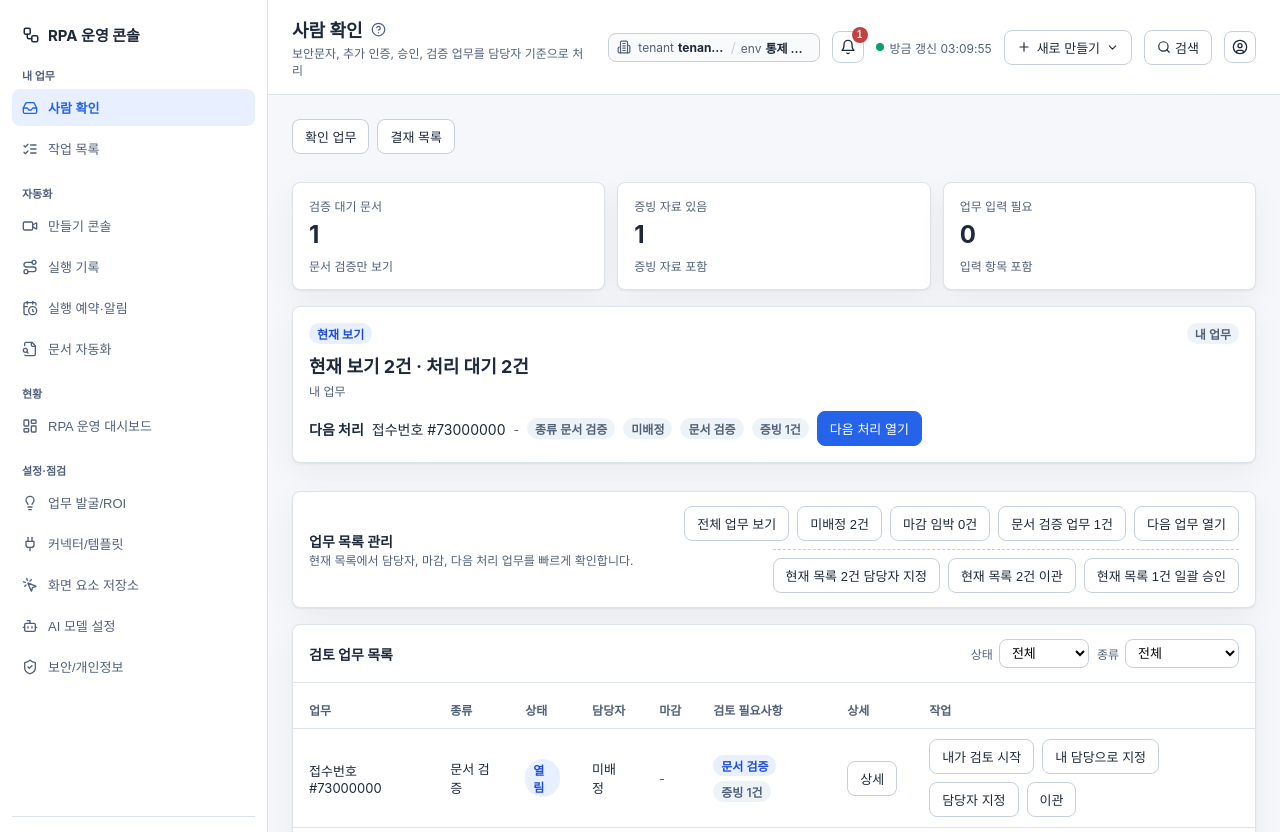
Scenario: HumanTasks 일괄 동작 안전성 › 일괄 대상이 화면 필터(문서 검증만)와 일치한다 — pageItems가 아닌 visibleItems 기준
Expected: the button "현재 목록 2건 담당자 지정" is shown, [773,558,940,593]
# '문서 검증 업무' 토글 → 보이는 목록은 문서 1건 → 일괄 대상도 1건이어야 한다.
Click the button "문서 검증 업무 1건" at (1062, 524), box [998,506,1126,541]
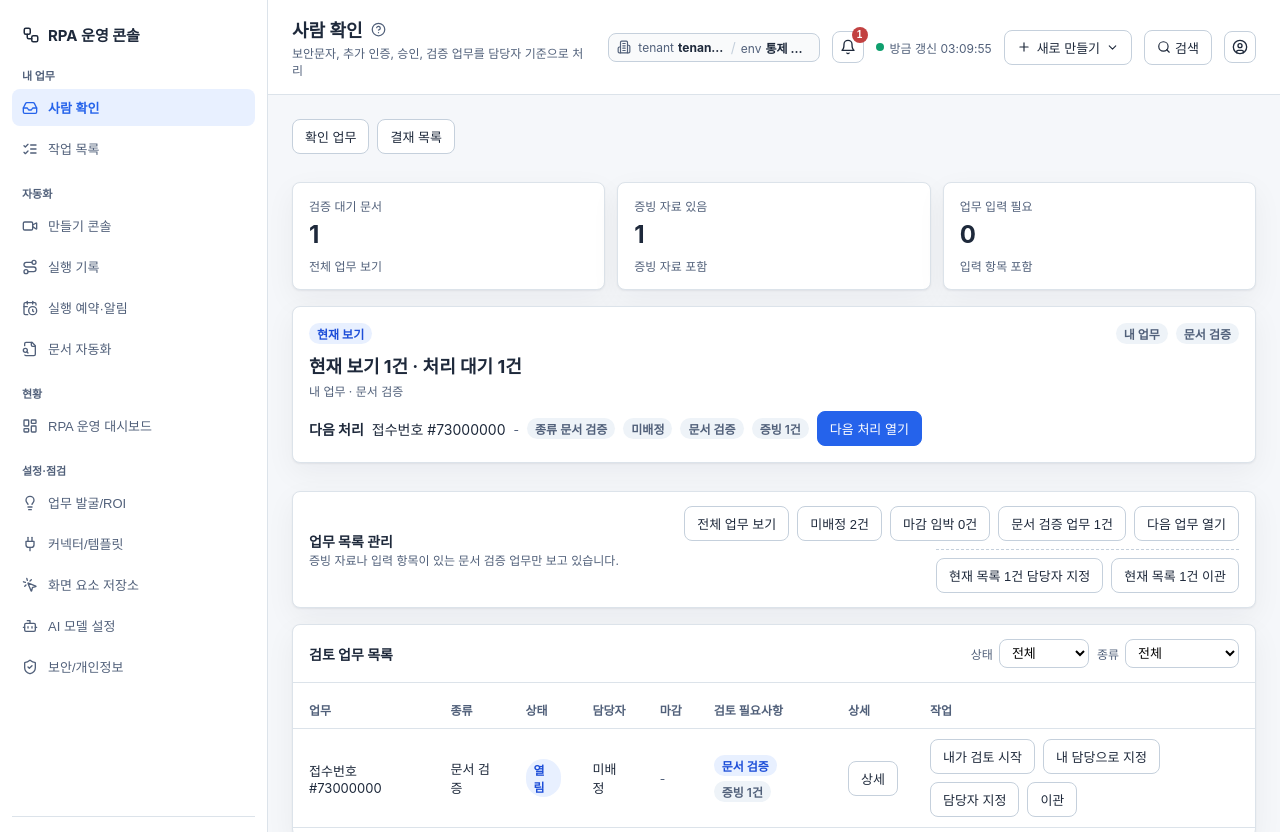
Now the button "현재 목록 1건 담당자 지정" is shown, box [936,558,1103,593]
Now the button "현재 목록 2건 담당자 지정" is gone
